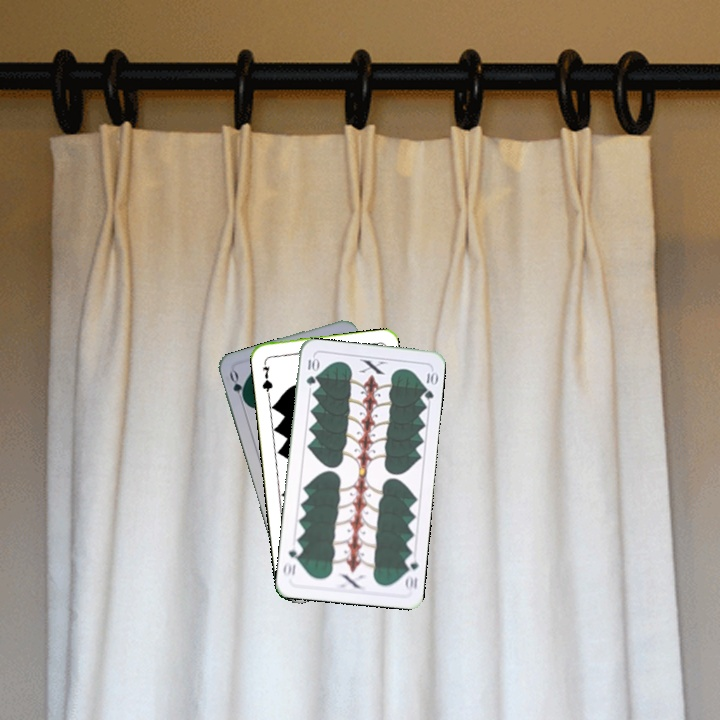G10: (401, 552, 421, 593), (302, 353, 320, 387)
G7: (258, 357, 275, 397)
GO: (225, 367, 249, 407)
